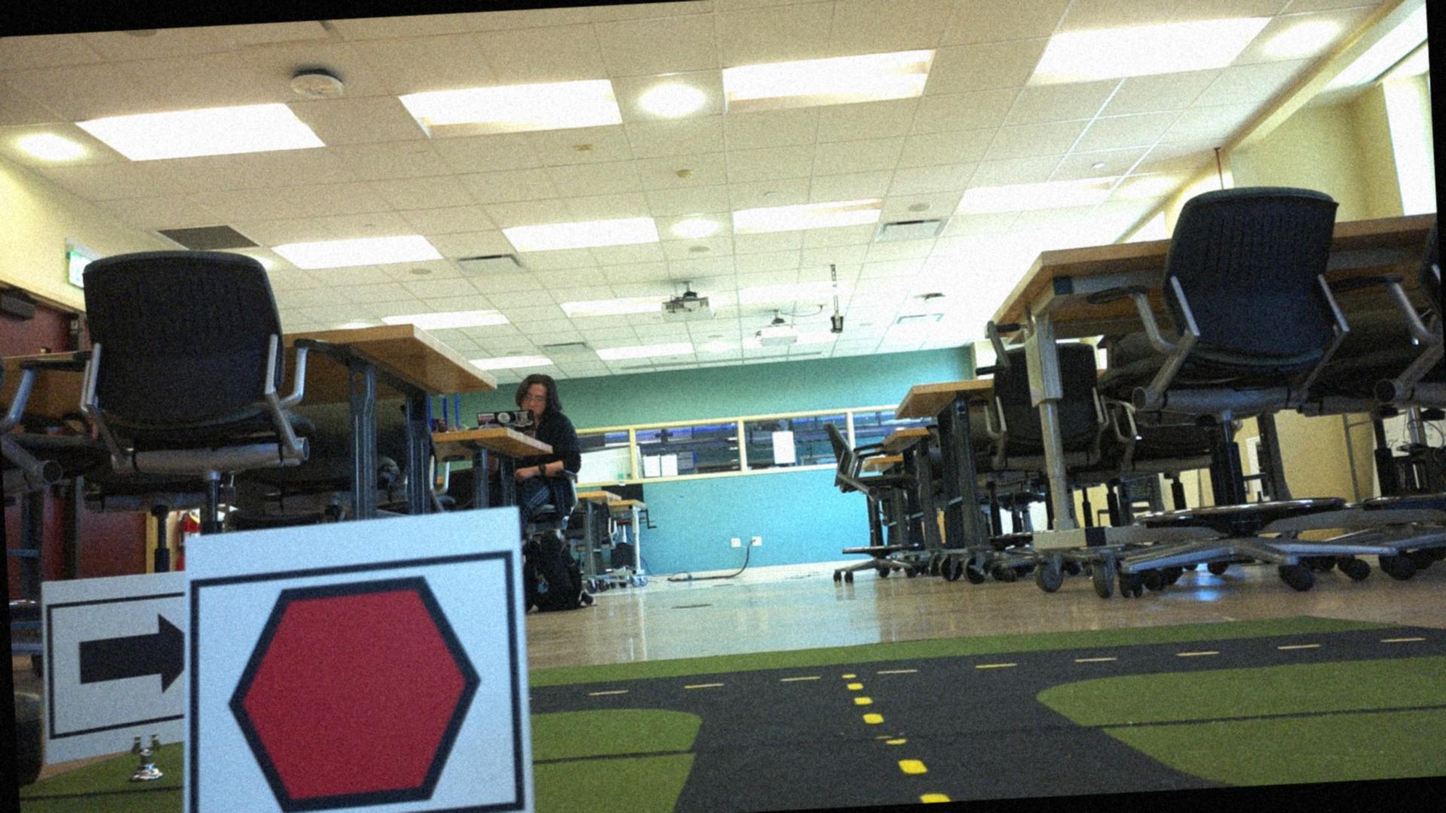stop: (206, 562, 505, 812)
yellowline: (892, 734, 945, 804), (848, 678, 889, 731)
